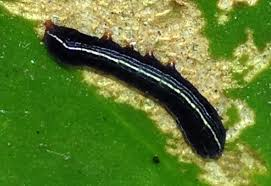Armyworm: (32, 23, 228, 162)
